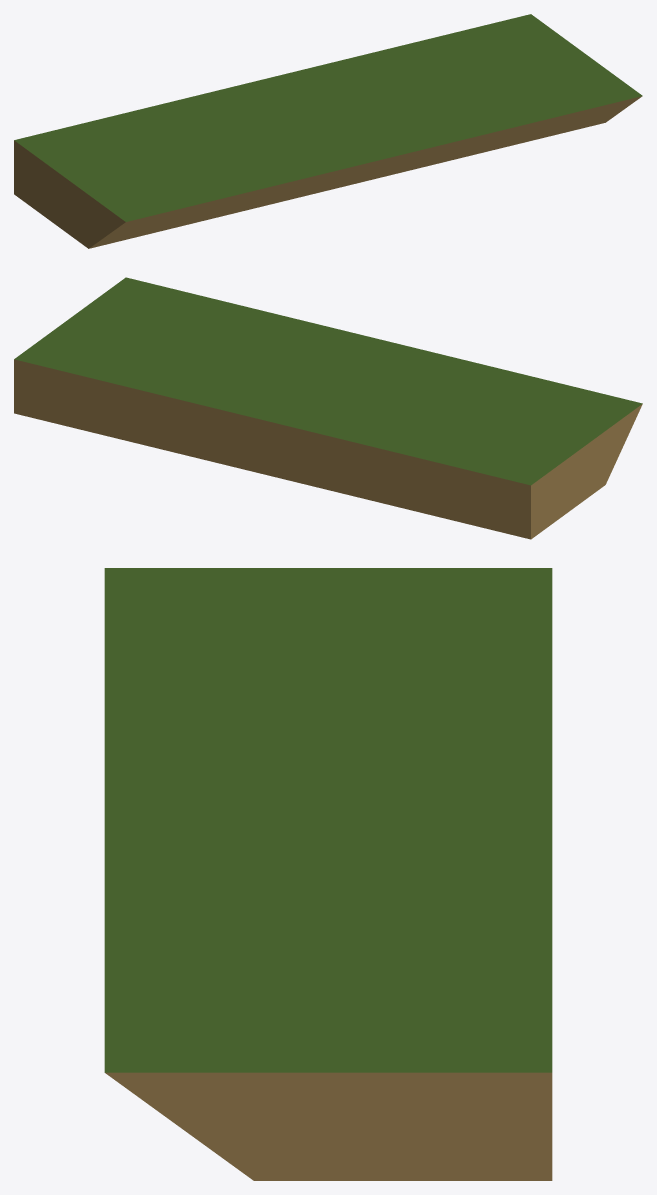
Rendered from Terrain_Modular_Tiles_Grass_Dirt_Cliff_Edge_Straight_Outer_01.fbx.
3 views of the same model, one above another, from view 1: azimuth 30°, elevation 25°; view 2: azimuth 150°, elevation 25°; view 3: azimuth 270°, elevation 25° (orthographic). The views are drawn at different scales.
Visible parts, largest first — view 1: Terrain_Modular_Tiles_Grass_Dirt_Cliff_Edge_Straight_Outer_0; view 2: Terrain_Modular_Tiles_Grass_Dirt_Cliff_Edge_Straight_Outer_0; view 3: Terrain_Modular_Tiles_Grass_Dirt_Cliff_Edge_Straight_Outer_0.
Part boxes in pixels (bbox=[...]): Terrain_Modular_Tiles_Grass_Dirt_Cliff_Edge_Straight_Outer_0: bbox=[14, 14, 642, 248]; Terrain_Modular_Tiles_Grass_Dirt_Cliff_Edge_Straight_Outer_0: bbox=[14, 277, 642, 539]; Terrain_Modular_Tiles_Grass_Dirt_Cliff_Edge_Straight_Outer_0: bbox=[104, 568, 552, 1180].
Bounding box in the file's own units: 3000 × 300 × 1125.
